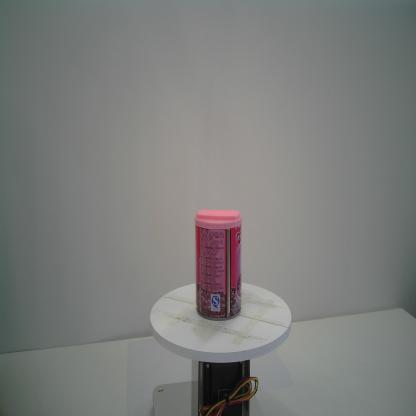Canned Food: (193, 206, 244, 322)
